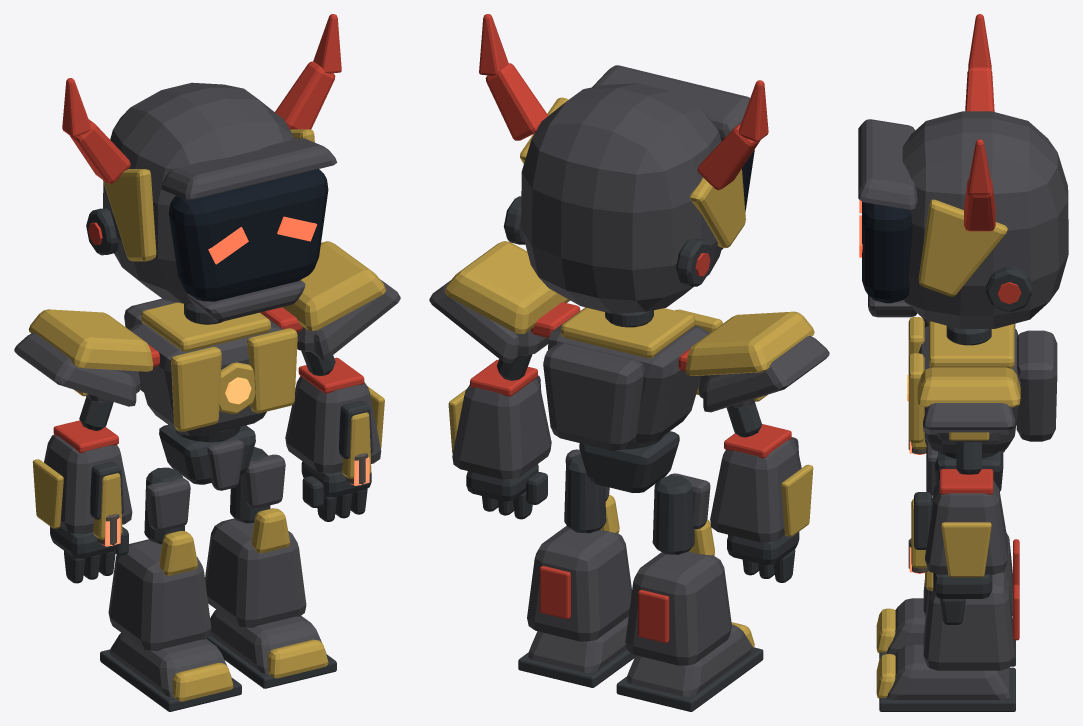
The model's file is capataz.glb.
The picture shows the model from 3 angles, left to right: view 1: azimuth 30°, elevation 25°; view 2: azimuth 150°, elevation 25°; view 3: azimuth 270°, elevation 25°; orthographic projection. The views are drawn at different scales.
Visible parts, largest first — view 1: cabeca_p, visor, bota.001, bota, testa, ombreira.002, antebraco, ombreira, tronco_p, antebraco.001, peitoral.001, ombreira.003 (+38 smaller); view 2: cabeca_p, mochila, bota.001, bota, antebraco, antebraco.001, ombreira, ombreira.002, tronco_p, gola, ombreira.003, pe.001 (+27 smaller); view 3: cabeca_p, bota, placa_lado, visor, testa, pe, mochila, antebraco, ombreira, gola, ombreira.001, bracelete (+26 smaller).
Boxes of the visible parts, x1=… form: cabeca_p: x1=103, y1=82, x2=294, y2=303; visor: x1=169, y1=169, x2=328, y2=301; bota.001: x1=108, y1=539, x2=211, y2=651; bota: x1=205, y1=518, x2=306, y2=627; testa: x1=161, y1=138, x2=337, y2=200; ombreira.002: x1=28, y1=309, x2=153, y2=371; antebraco: x1=285, y1=376, x2=381, y2=473; ombreira: x1=282, y1=241, x2=385, y2=330; tronco_p: x1=129, y1=313, x2=282, y2=436; antebraco.001: x1=44, y1=434, x2=132, y2=534; peitoral.001: x1=171, y1=347, x2=221, y2=431; ombreira.003: x1=14, y1=333, x2=136, y2=406; cabeca_p: x1=521, y1=83, x2=721, y2=313; mochila: x1=543, y1=343, x2=644, y2=450; bota.001: x1=625, y1=551, x2=731, y2=665; bota: x1=527, y1=525, x2=631, y2=641; antebraco: x1=452, y1=378, x2=551, y2=479; antebraco.001: x1=710, y1=439, x2=801, y2=542; ombreira: x1=444, y1=241, x2=569, y2=333; ombreira.002: x1=685, y1=311, x2=814, y2=375; tronco_p: x1=548, y1=307, x2=709, y2=443; gola: x1=561, y1=307, x2=695, y2=358; ombreira.003: x1=703, y1=335, x2=829, y2=412; pe.001: x1=626, y1=624, x2=753, y2=696; cabeca_p: x1=902, y1=111, x2=1068, y2=328; bota: x1=923, y1=572, x2=1014, y2=670; placa_lado: x1=918, y1=199, x2=1007, y2=296; visor: x1=862, y1=202, x2=912, y2=303; testa: x1=858, y1=119, x2=917, y2=209; pe: x1=886, y1=644, x2=1010, y2=699; mochila: x1=1016, y1=330, x2=1057, y2=441; antebraco: x1=925, y1=480, x2=1007, y2=574; ombreira: x1=917, y1=367, x2=1020, y2=407; gola: x1=929, y1=321, x2=1014, y2=368; ombreira.001: x1=923, y1=403, x2=1015, y2=434; bracelete: x1=941, y1=522, x2=991, y2=577.
Bounding box in the file's own units: 0.7277 × 1.22 × 0.3922.
